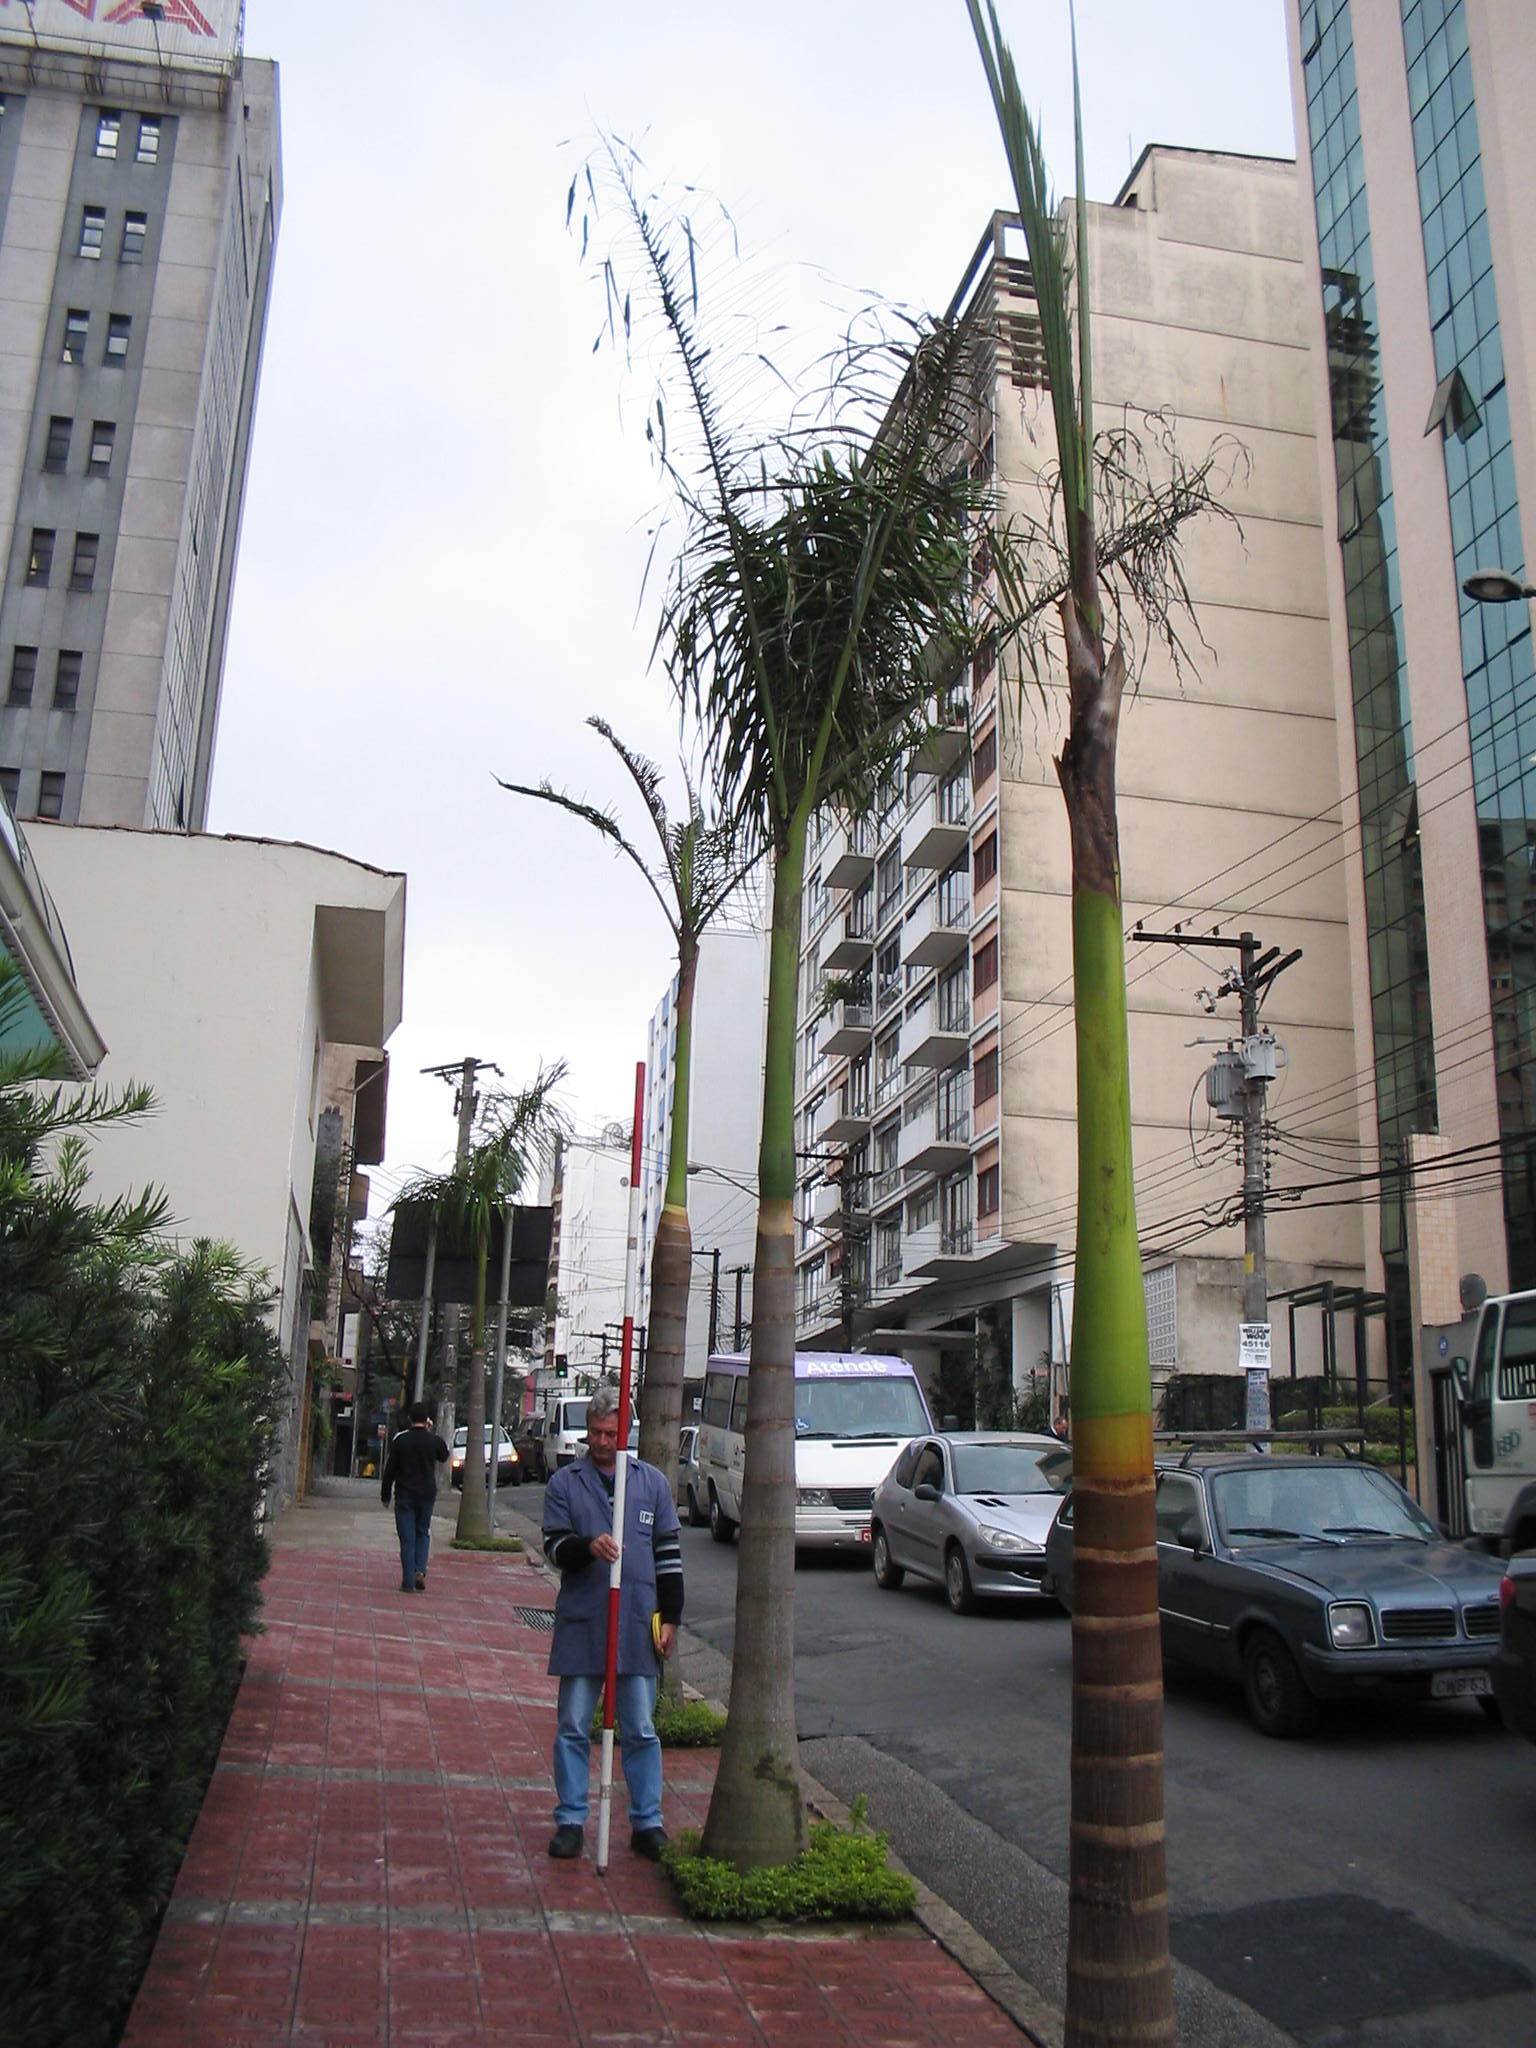crown: (586, 118, 1233, 934)
stem: (1007, 1005, 1249, 2045), (710, 984, 866, 1874), (439, 1247, 524, 1537)
stick: (586, 1058, 665, 1874)
tree: (582, 116, 1223, 1871), (407, 1066, 566, 1542)
